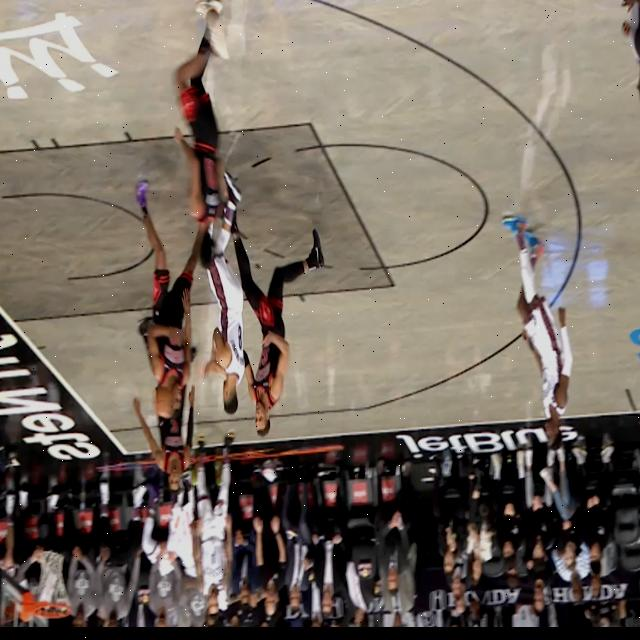no foul: (112, 147, 344, 467), (480, 178, 598, 474)
